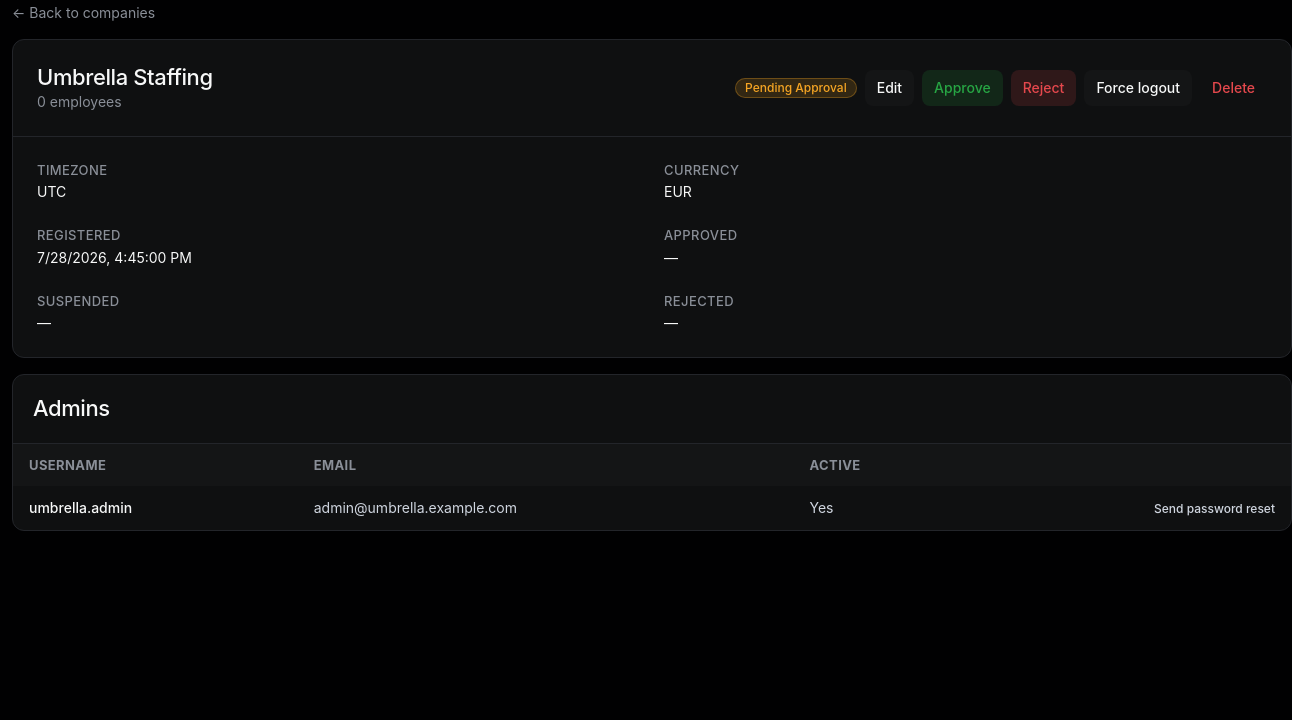
Scenario: CompanyDetailPage › approves a pending company, flipping it to Trial
Expected: the heading "Umbrella Staffing" is shown, [37,64,213,92]
Click the button "Approve". click: (962, 88)
box: [922,70,1003,106]
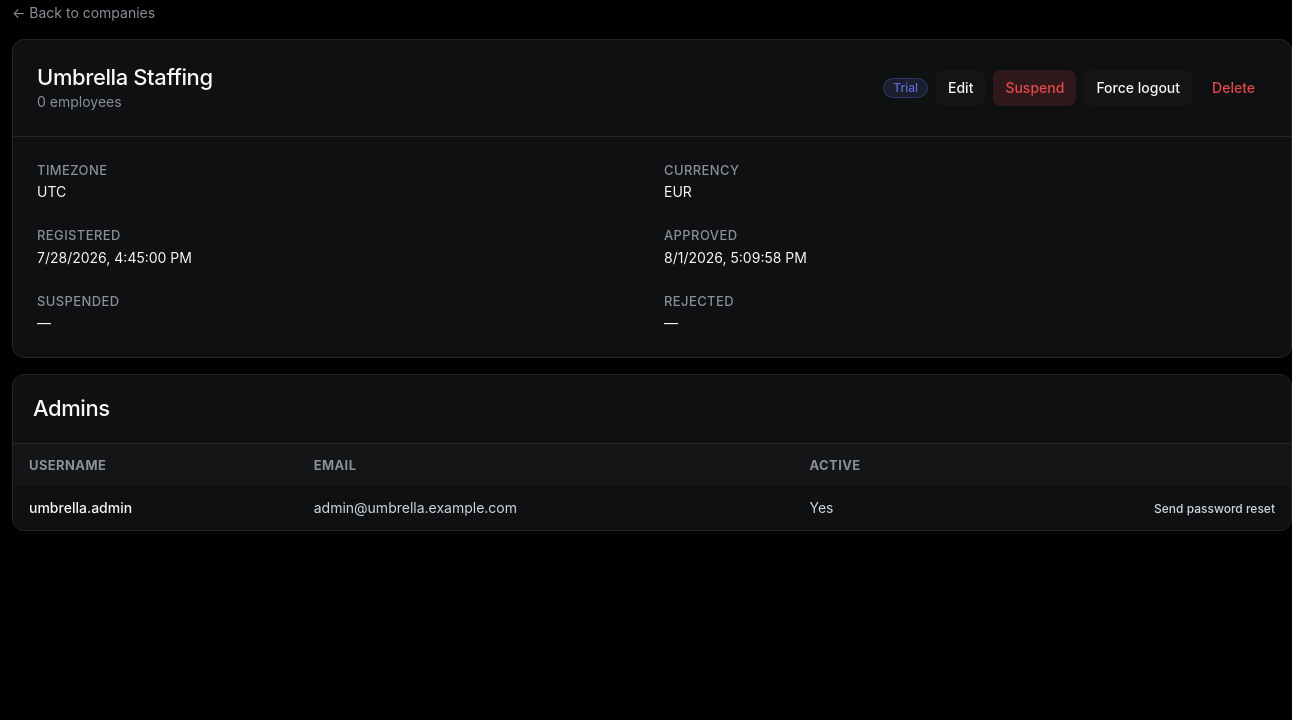
Expected: the text "Trial" is shown, [883,78,928,98]
